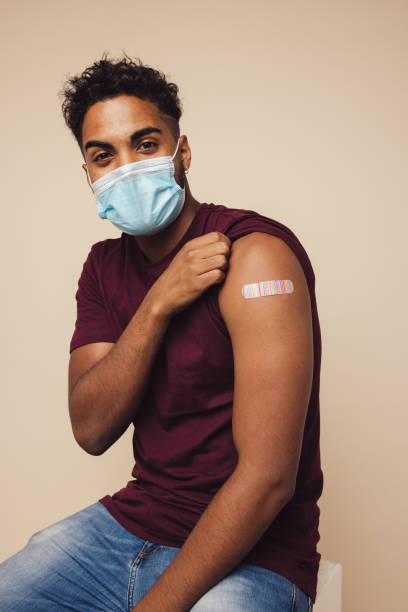with mask: (71, 67, 187, 236)
